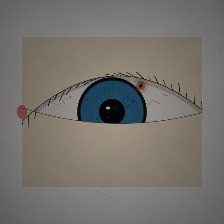foreign_body_visible: (130, 77, 151, 94)
